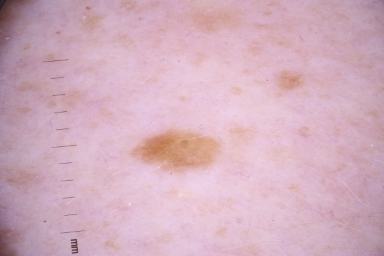melanoma: (129, 128, 224, 172)
